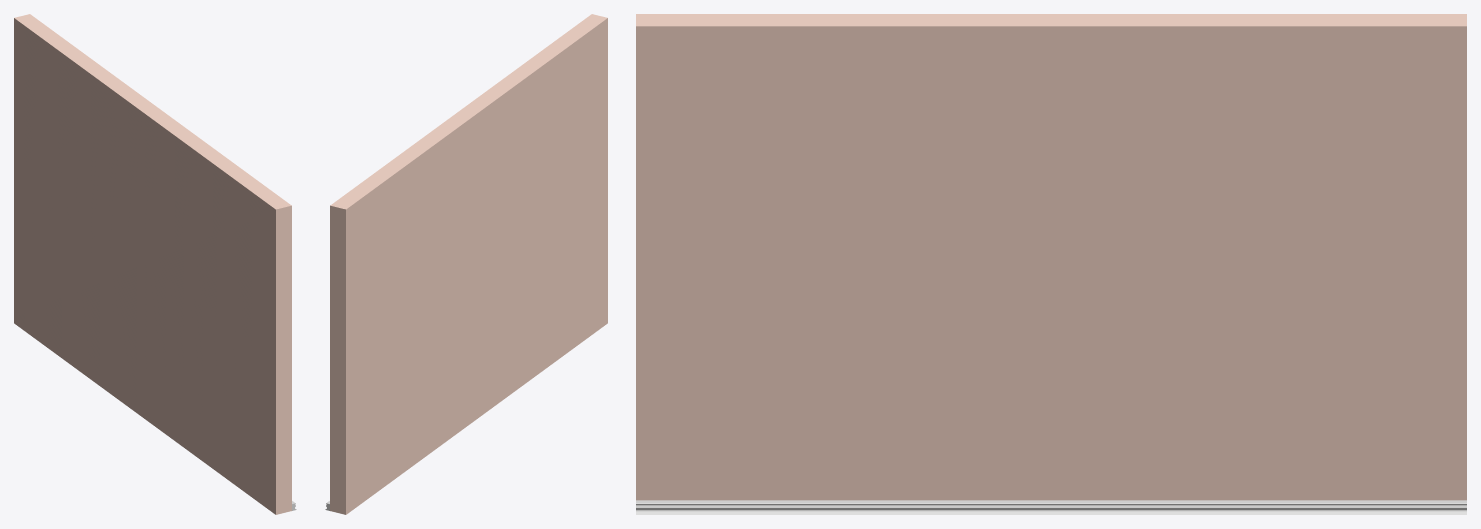
Rendered from Wall.fbx.
3 views of the same model, side by side, from view 1: azimuth 30°, elevation 25°; view 2: azimuth 150°, elevation 25°; view 3: azimuth 270°, elevation 25° (orthographic). The views are drawn at different scales.
Parts seen in each view (by area): view 1: 큐브; view 2: 큐브; view 3: 큐브.
Part boxes in pixels (x1,y1,x2,y2): 큐브: (14,14,296,514); 큐브: (325,14,607,514); 큐브: (636,14,1466,514).
Size of the model in its own units: 2.81 by 38.86 by 60.38.
